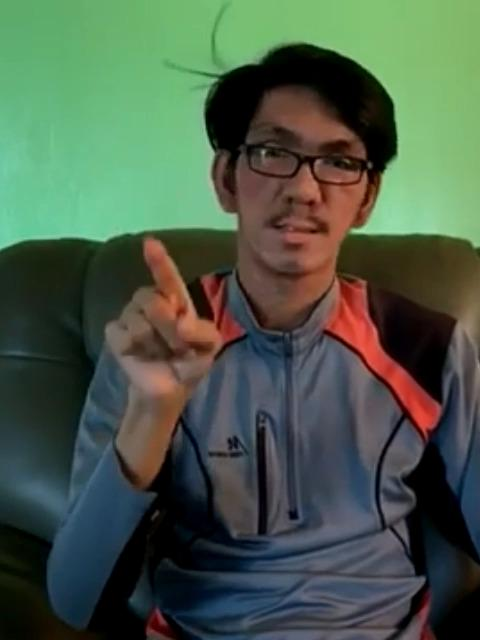Z: (100, 224, 222, 400)
